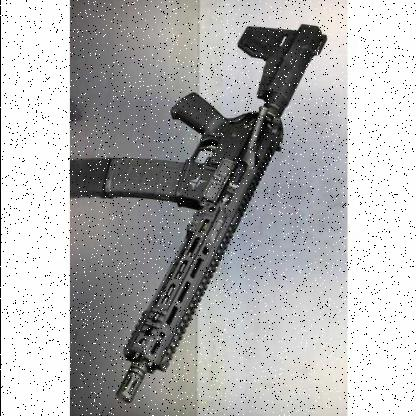rifle: (53, 15, 339, 411)
